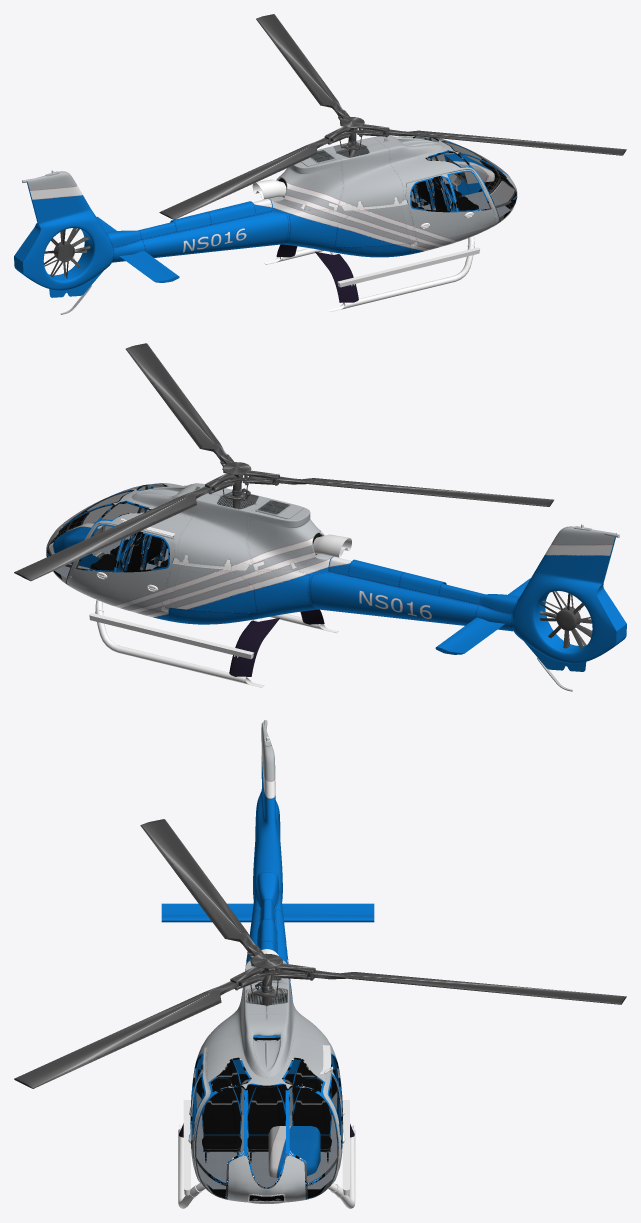
The model's file is helicopter.glb.
3 renders of one model, top to bottom at view 1: azimuth 30°, elevation 25°; view 2: azimuth 150°, elevation 25°; view 3: azimuth 270°, elevation 25°, orthographic. The views are drawn at different scales.
Visible parts, largest first — view 1: helicopter.Shape_body_0_9, Rotor_anim, helicopter.Shape_glass_0_10, helicopter.Shape_black_0_7, helicopter.Shape_interior_0_8, Tail_rotor_anim; view 2: helicopter.Shape_body_0_9, Rotor_anim, helicopter.Shape_black_0_7, helicopter.Shape_glass_0_10, helicopter.Shape_interior_0_8, Tail_rotor_anim; view 3: helicopter.Shape_body_0_9, helicopter.Shape_glass_0_10, Rotor_anim, helicopter.Shape_interior_0_8, helicopter.Shape_black_0_7.
Part boxes in pixels (x1,y1,x2,y2): helicopter.Shape_body_0_9: (14,135,517,314); Rotor_anim: (159,14,626,219); helicopter.Shape_glass_0_10: (412,136,516,221); helicopter.Shape_black_0_7: (22,135,514,311); helicopter.Shape_interior_0_8: (411,177,478,210); Tail_rotor_anim: (44,228,90,278); helicopter.Shape_body_0_9: (46,483,626,691); Rotor_anim: (14,343,553,581); helicopter.Shape_black_0_7: (49,518,619,687); helicopter.Shape_glass_0_10: (47,484,168,582); helicopter.Shape_interior_0_8: (90,532,168,570); Tail_rotor_anim: (539,591,592,648); helicopter.Shape_body_0_9: (161,720,374,1202); helicopter.Shape_glass_0_10: (191,1055,342,1203); Rotor_anim: (14,819,626,1088); helicopter.Shape_interior_0_8: (202,1060,331,1162); helicopter.Shape_black_0_7: (178,736,355,1208).
Size of the model in its own units: 417 by 136 by 325.
Materials: 6 (5 with a texture image).
